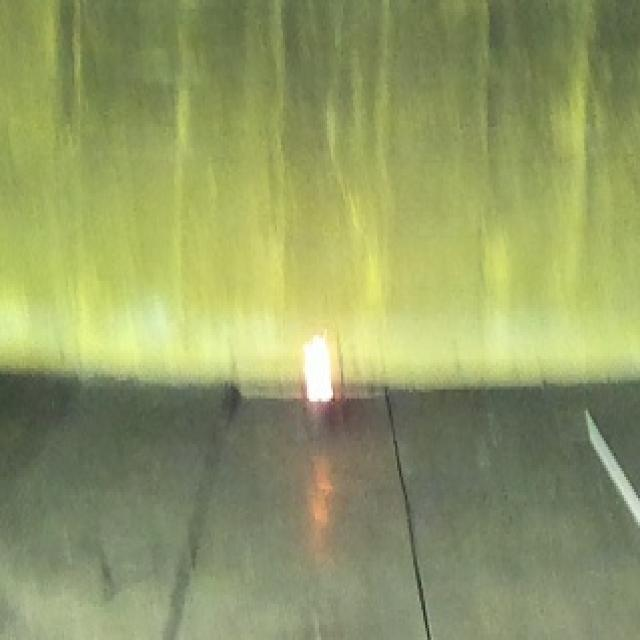Fire: (304, 328, 334, 402)
